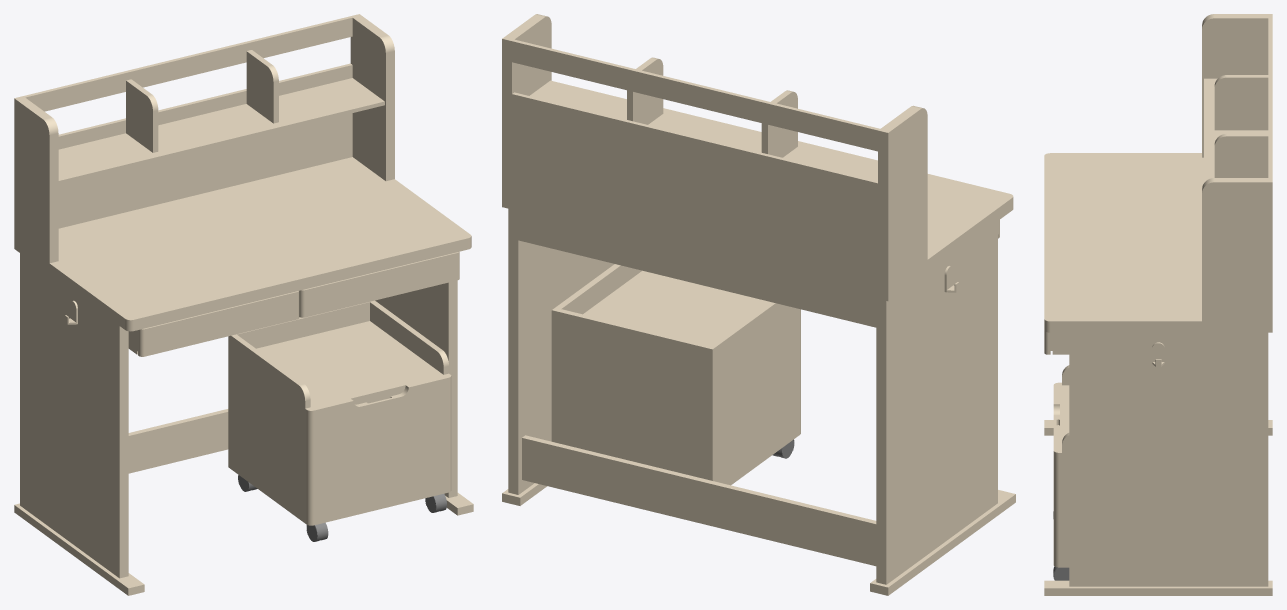
The model's file is 508_学習机.glb.
3 views of the same model, side by side, from view 1: azimuth 30°, elevation 25°; view 2: azimuth 150°, elevation 25°; view 3: azimuth 270°, elevation 25° (orthographic). The views are drawn at different scales.
Visible parts, largest first — view 1: body, wagon, wagon_hikidashi, hikidashi_hidari, hikidashi_migi; view 2: body, wagon; view 3: body, wagon, wagon_hikidashi.
Boxes of the visible parts, x1,y1,x2,y2 form: body: (14, 14, 473, 595); wagon: (228, 300, 448, 541); wagon_hikidashi: (305, 373, 451, 525); hikidashi_hidari: (137, 291, 299, 356); hikidashi_migi: (299, 251, 459, 317); body: (502, 14, 1015, 595); wagon: (551, 264, 798, 485); body: (1044, 14, 1272, 595); wagon: (1053, 365, 1069, 580); wagon_hikidashi: (1053, 382, 1061, 567).
Bounding box in the file's own units: 0.988 × 1.1 × 0.55.
